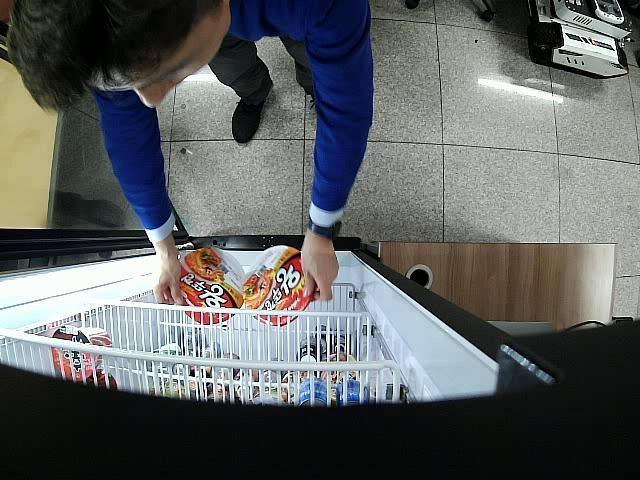10_wangTtukkeong: (244, 246, 316, 327), (180, 246, 244, 324)
